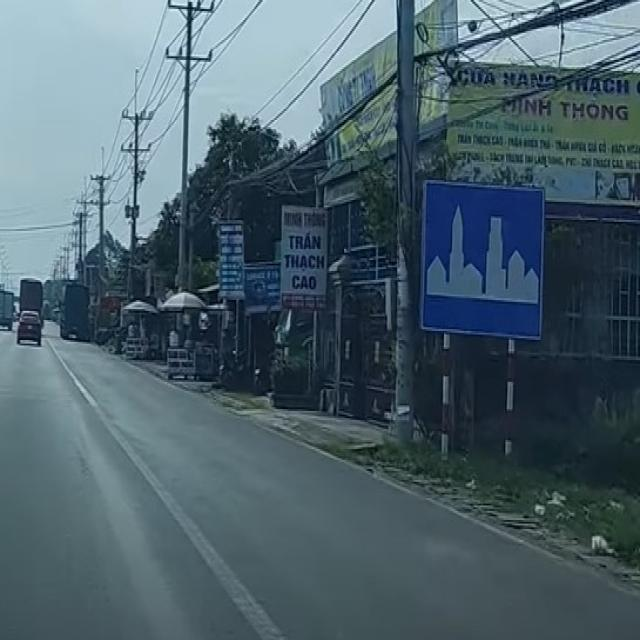Bien hieu lenh bat dau khu dong dan cu: (416, 172, 548, 351)
